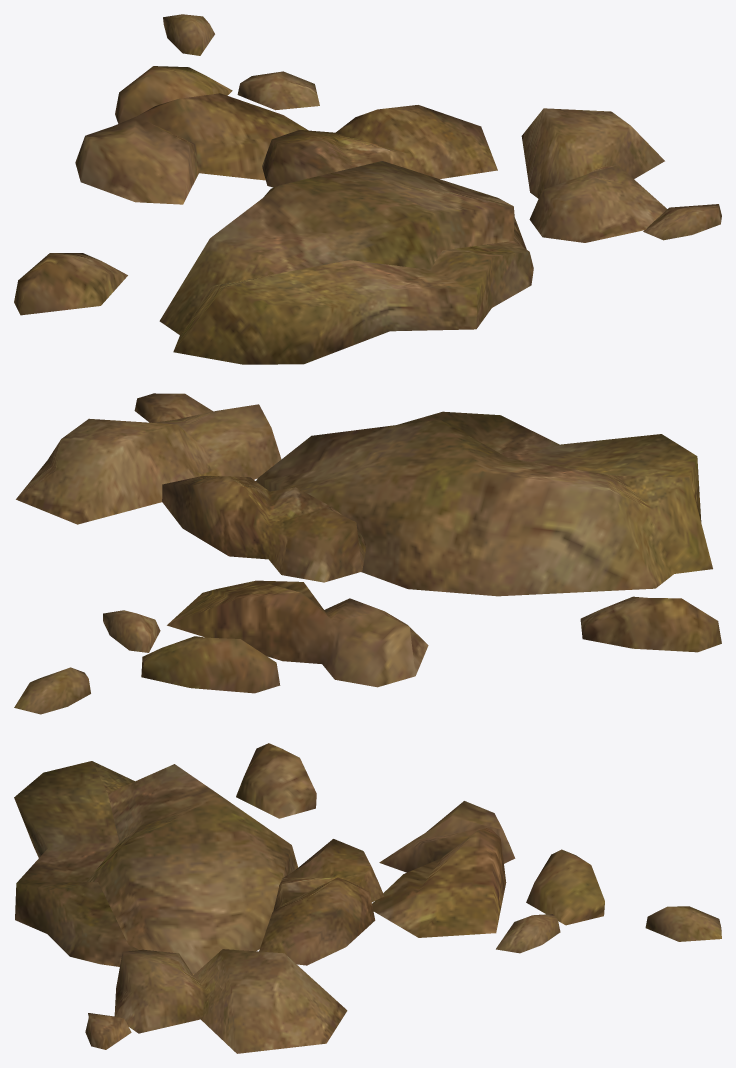
File: S_Rock_Yellow013.FBX
The picture shows the model from 3 angles, top to bottom: view 1: azimuth 30°, elevation 25°; view 2: azimuth 150°, elevation 25°; view 3: azimuth 270°, elevation 25°; orthographic projection. The views are drawn at different scales.
Parts seen in each view (by area): view 1: S_Rock_Yellow013; view 2: S_Rock_Yellow013; view 3: S_Rock_Yellow013.
Boxes of the visible parts, <box> form: S_Rock_Yellow013: <box>14,14,721,364</box>; S_Rock_Yellow013: <box>14,393,721,714</box>; S_Rock_Yellow013: <box>14,743,721,1053</box>.
Size of the model in its own units: 495 by 501 by 66.82.
